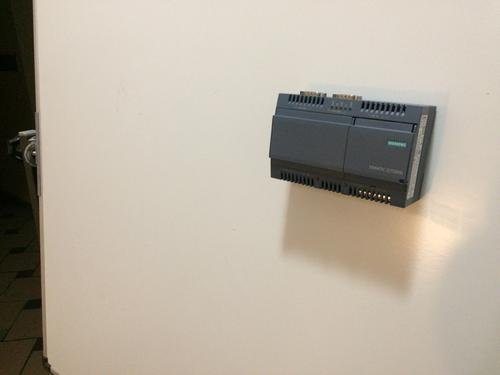iot2000: (267, 89, 437, 209)
